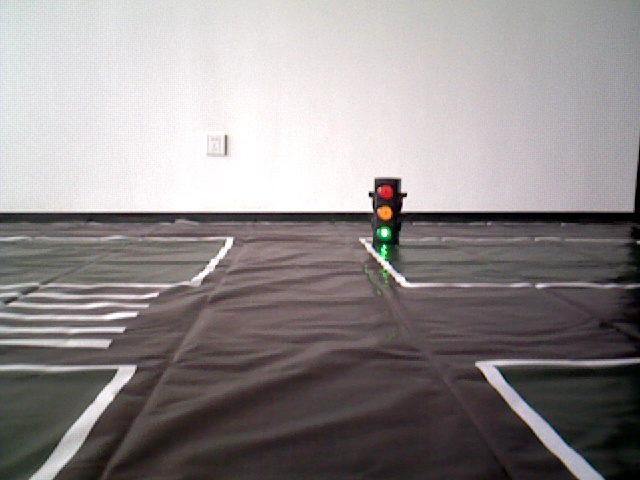green: (376, 180, 394, 241)
